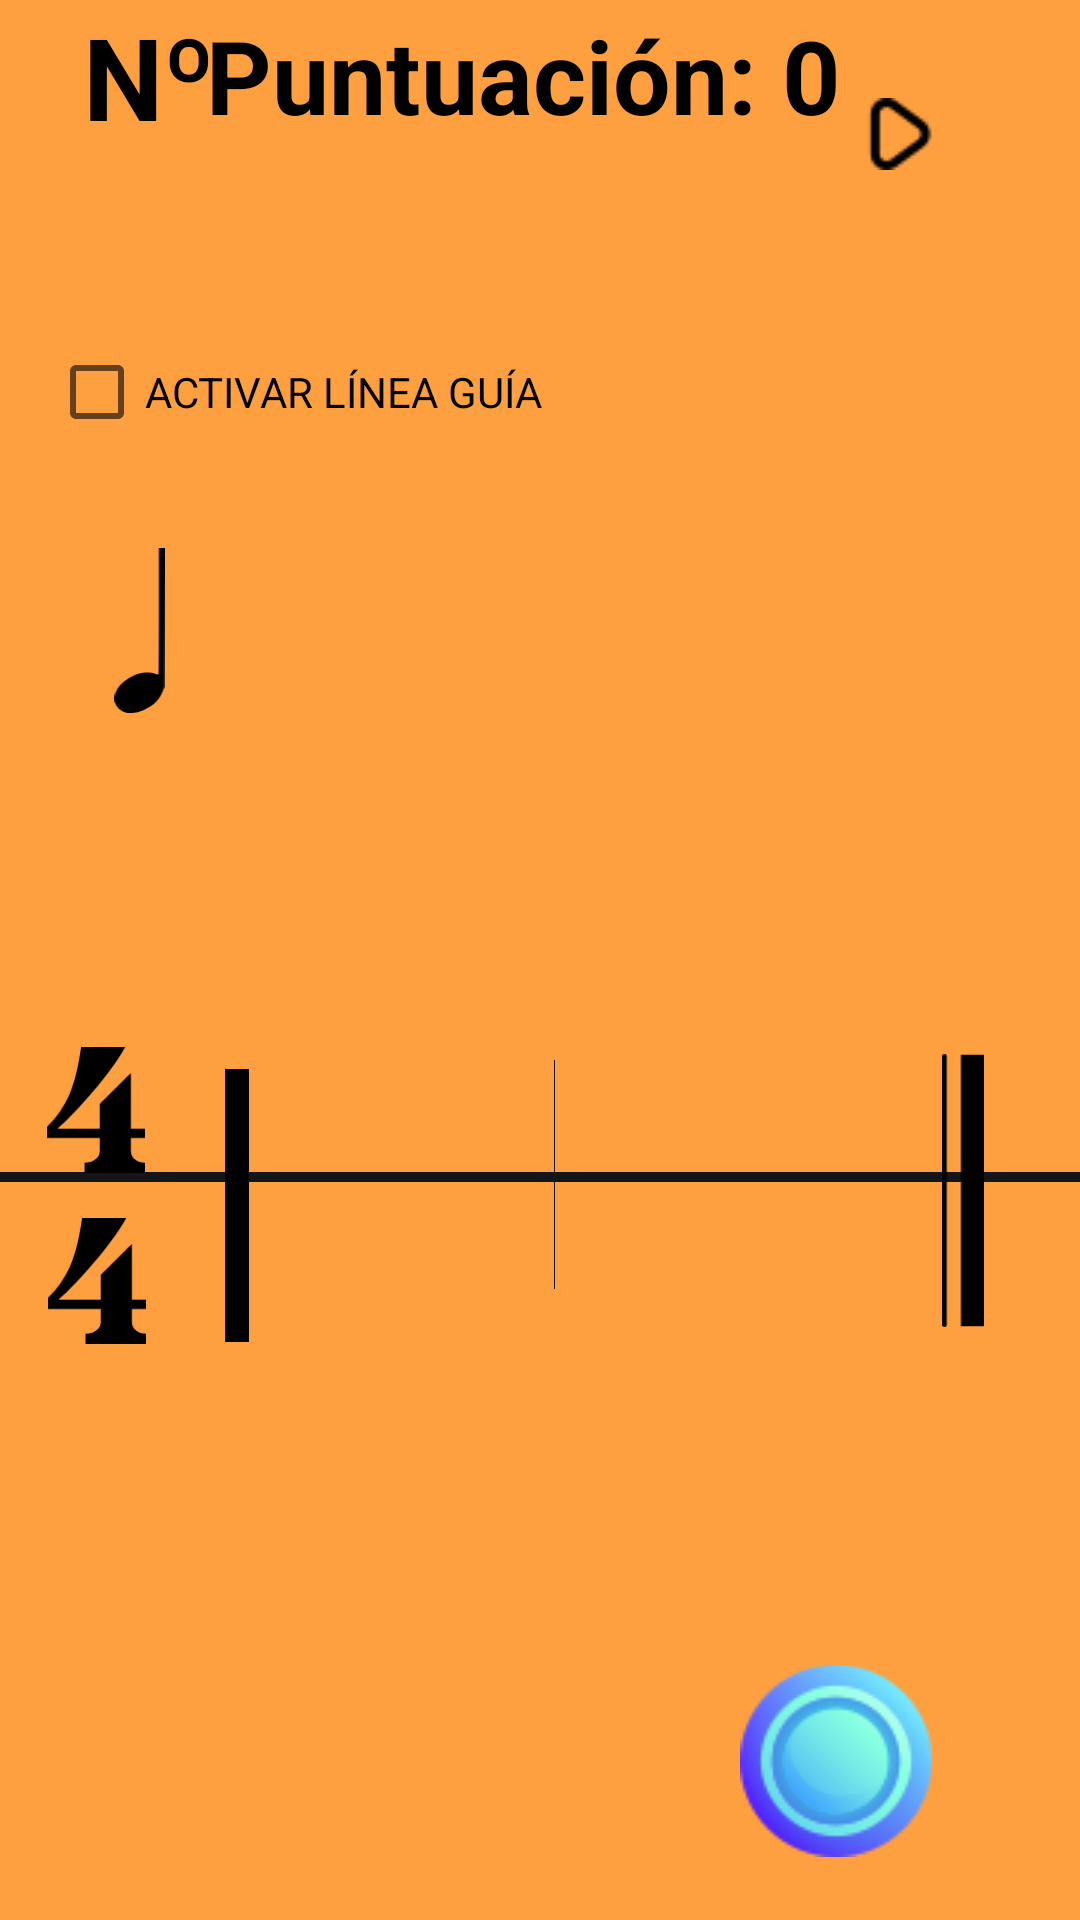

Screen size 1080×1920. Icon name, then its box in pixels as (x1, y1, x2, y2):
boton: (740, 1665, 932, 1857)
negra: (114, 548, 165, 713)
play: (869, 98, 932, 170)
